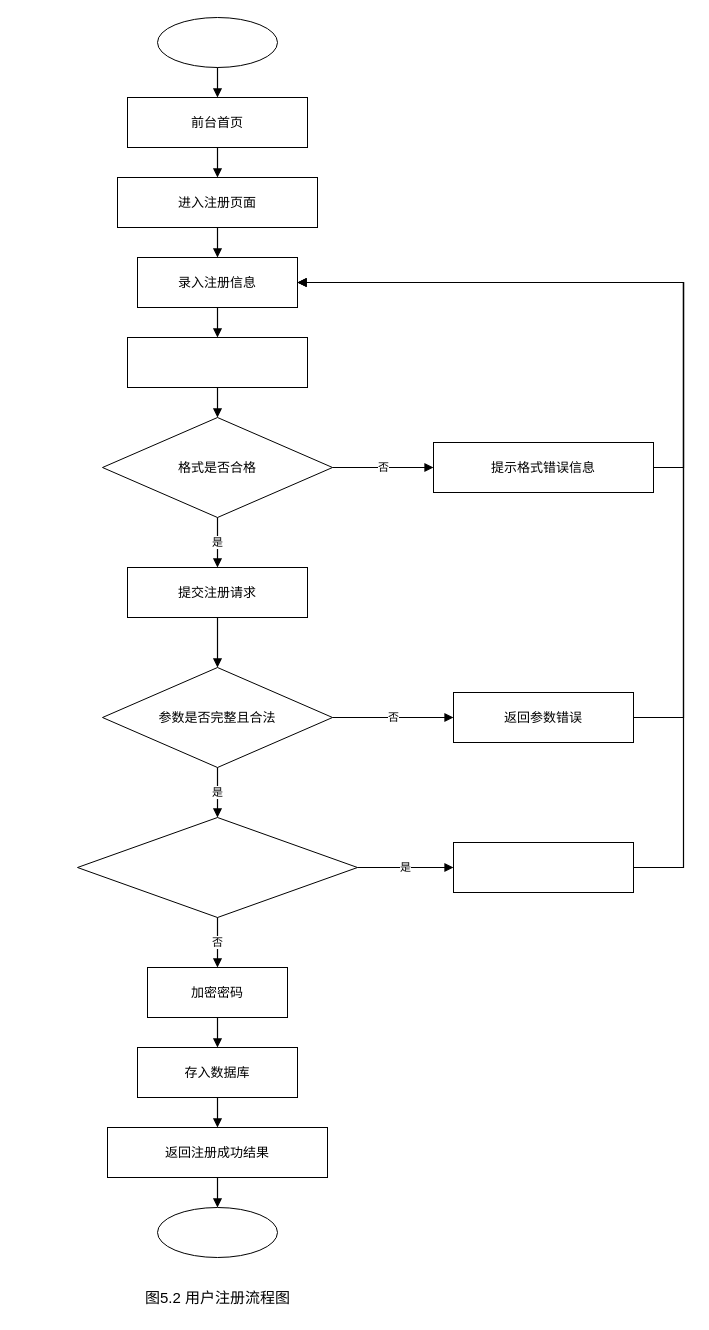
Image size: 709x1330. Some labels were removed from this diagram. Each missing label, with the centre of its shape:
"信息格式校验" goes at point (217, 362).
"开始" goes at point (217, 42).
"用户名或手机号是否重复" goes at point (217, 867).
"结束" goes at point (217, 1232).
"返回重复提示" goes at point (543, 867).
